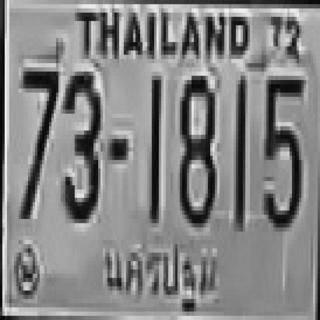N01: (147, 74, 159, 221), (234, 76, 245, 227)
N03: (61, 67, 100, 219)
N05: (262, 74, 301, 225)
N07: (20, 65, 57, 217)
N08: (178, 72, 215, 223)
P28: (103, 237, 222, 311)
